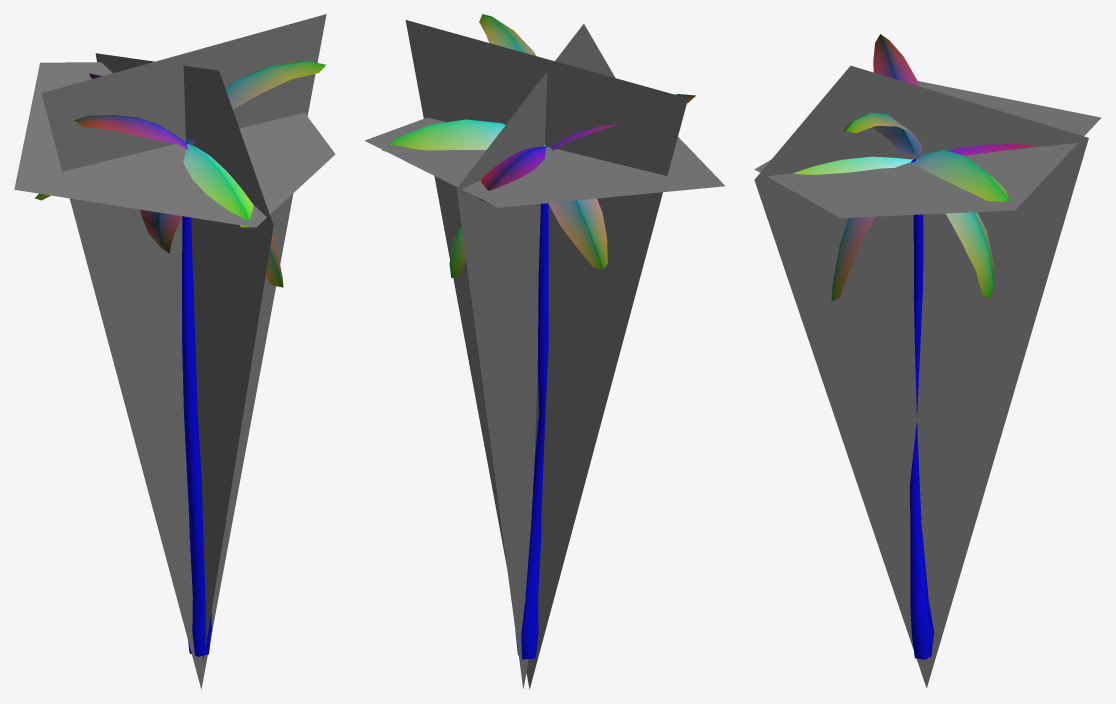
Rendered from Palm_02.fbx.
The picture shows the model from 3 angles, left to right: view 1: azimuth 30°, elevation 25°; view 2: azimuth 150°, elevation 25°; view 3: azimuth 270°, elevation 25°; orthographic projection. The views are drawn at different scales.
Parts seen in each view (by area): view 1: Palm_02_billboard, Palm_02; view 2: Palm_02_billboard, Palm_02; view 3: Palm_02_billboard, Palm_02.
Part boxes in pixels (<box>): Palm_02_billboard: <box>14,14,335,689</box>; Palm_02: <box>35,61,325,656</box>; Palm_02_billboard: <box>364,20,725,689</box>; Palm_02: <box>381,14,695,659</box>; Palm_02_billboard: <box>754,65,1101,687</box>; Palm_02: <box>792,34,1037,659</box>.
Size of the model in its own units: 274 by 536 by 274.
